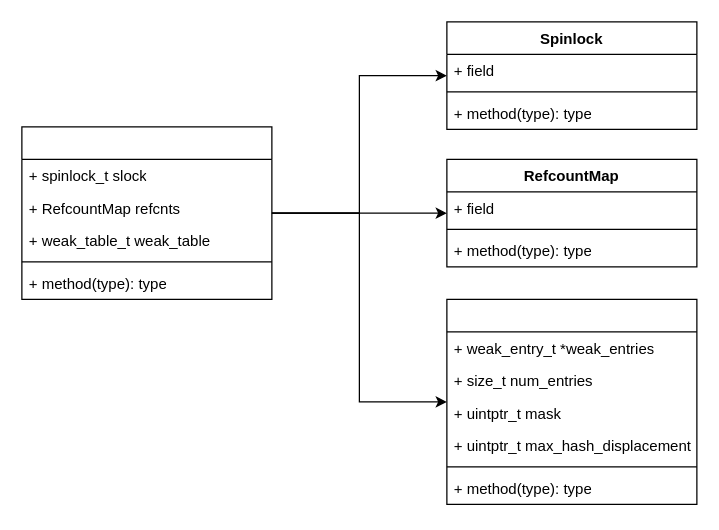
The diagram is 719 pixels wide and 530 high, and some of its shapes have lost their labels. The box of each missing label's shape, as (x1, y1, x2, y2) in pixels:
SIdeTable: (21, 126, 272, 299)
weak_table_t: (446, 298, 697, 504)
